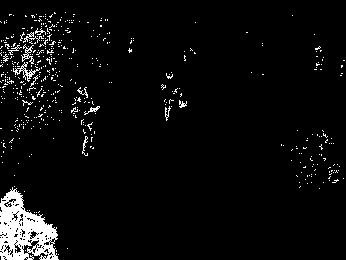person: (1, 187, 64, 260), (74, 86, 101, 160)
